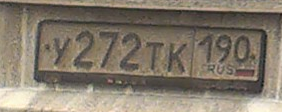character: (119, 30, 142, 73), (73, 29, 96, 70), (97, 29, 119, 71), (166, 40, 188, 77), (144, 39, 165, 74), (50, 35, 71, 68), (233, 32, 251, 67), (197, 32, 215, 66), (216, 32, 233, 65)
